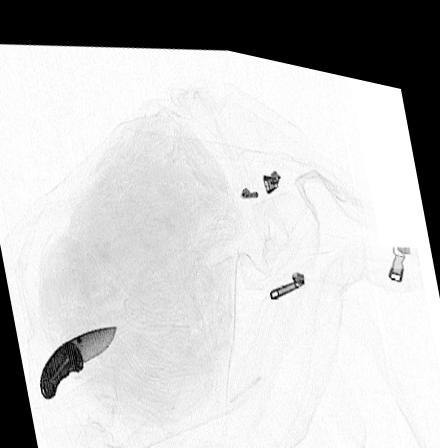Knife: (38, 319, 118, 398)
